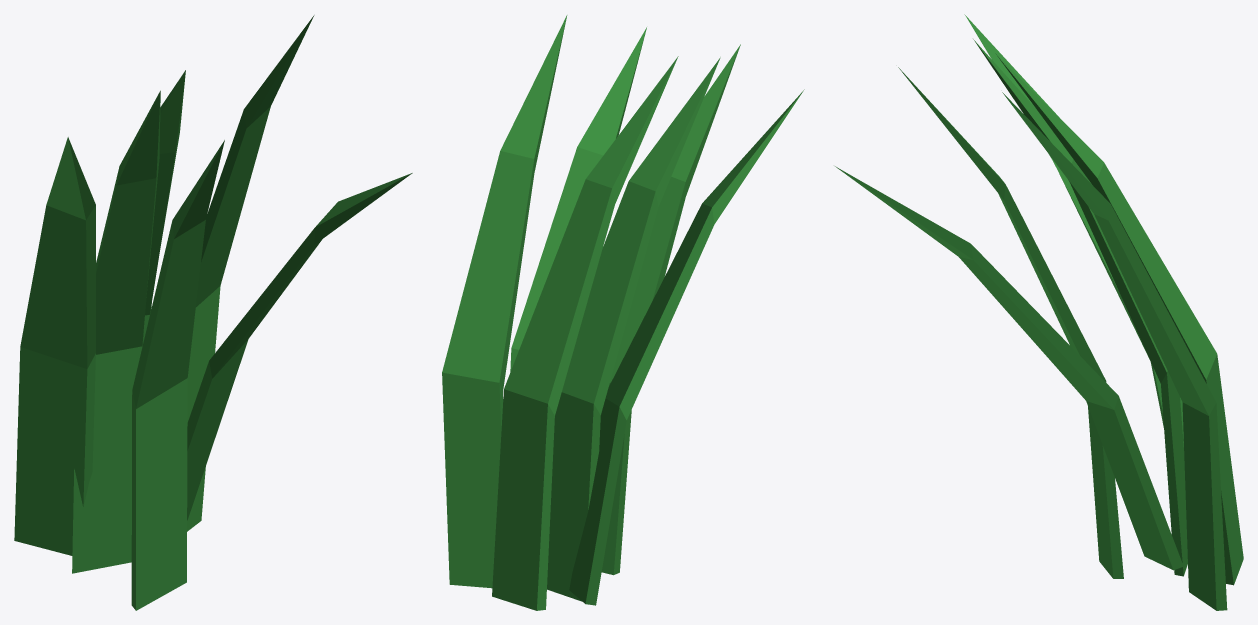
Rendered from grass_001.glb.
The picture shows the model from 3 angles, left to right: view 1: azimuth 30°, elevation 25°; view 2: azimuth 150°, elevation 25°; view 3: azimuth 270°, elevation 25°; orthographic projection. The views are drawn at different scales.
Visible parts, largest first — view 1: grass_001; view 2: grass_001; view 3: grass_001.
Part boxes in pixels (x1,y1,x2,y2): grass_001: [14, 15, 412, 610]; grass_001: [442, 15, 804, 610]; grass_001: [835, 14, 1243, 610].
Size of the model in its own units: 0.5004 by 0.9863 by 0.7039.
1 material, 1 textured.
